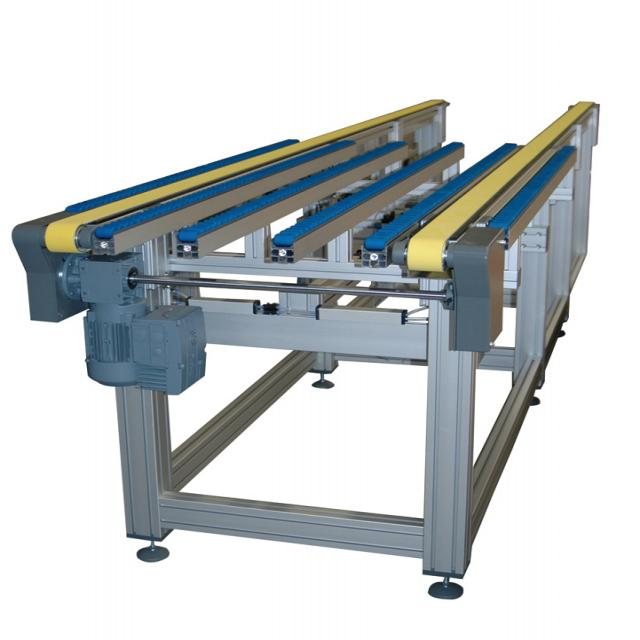Convoyeur: (31, 89, 611, 319)
